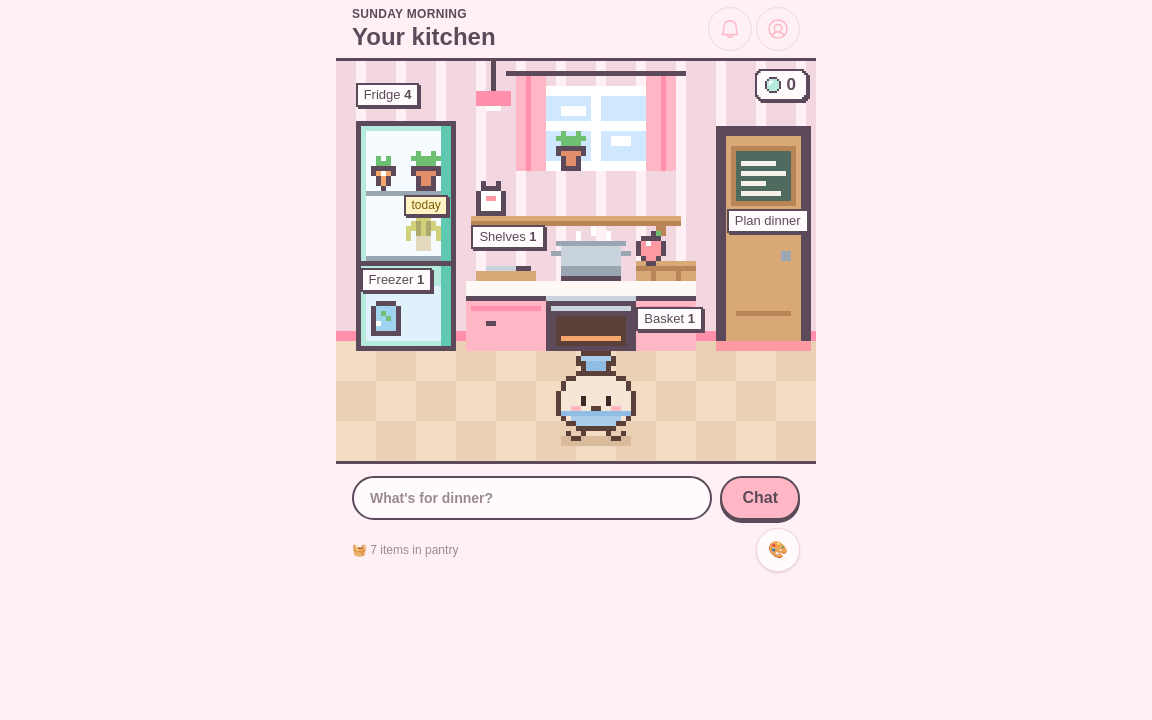
it: bulk resolve › keeps the items that failed selected and says so
The image size is (1152, 720).
What coordinates should you click on to do the following:
click the button with aria-label "Fridge, 4 items"
I would click on:
 (406, 174)
Its box is [356,83,456,266].
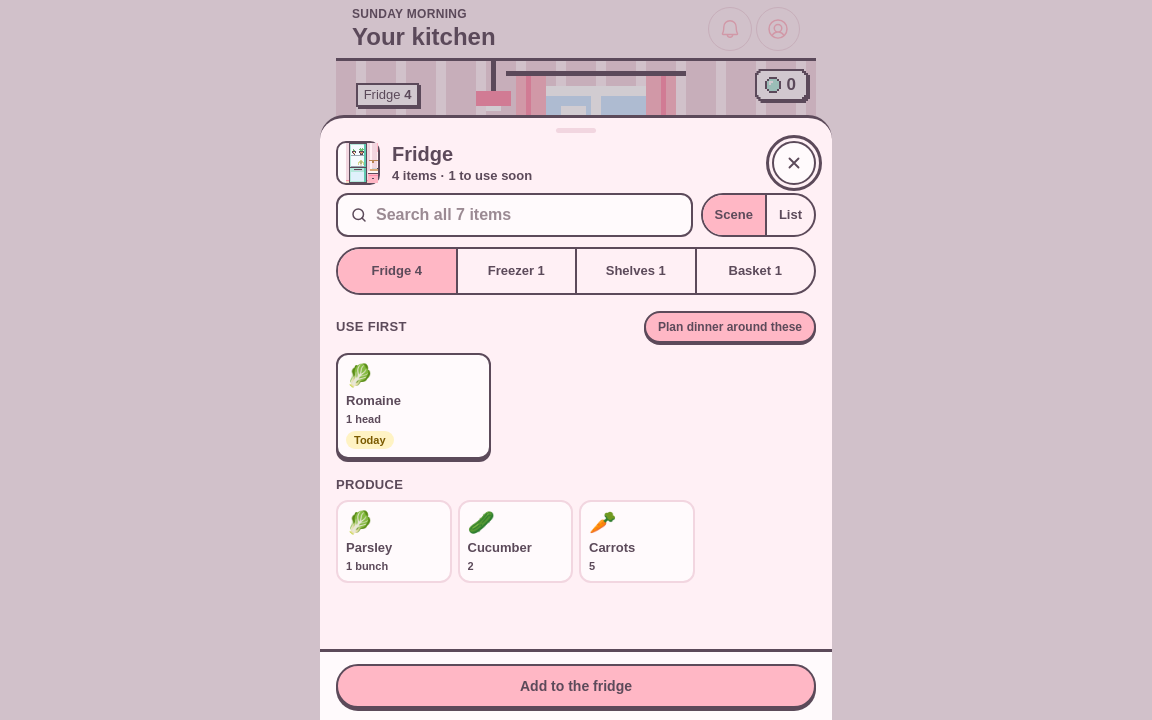
What coordinates should you click on to do the following:
click the button "List"
I would click on:
 (789, 215)
Its box is [765,195,814,235].
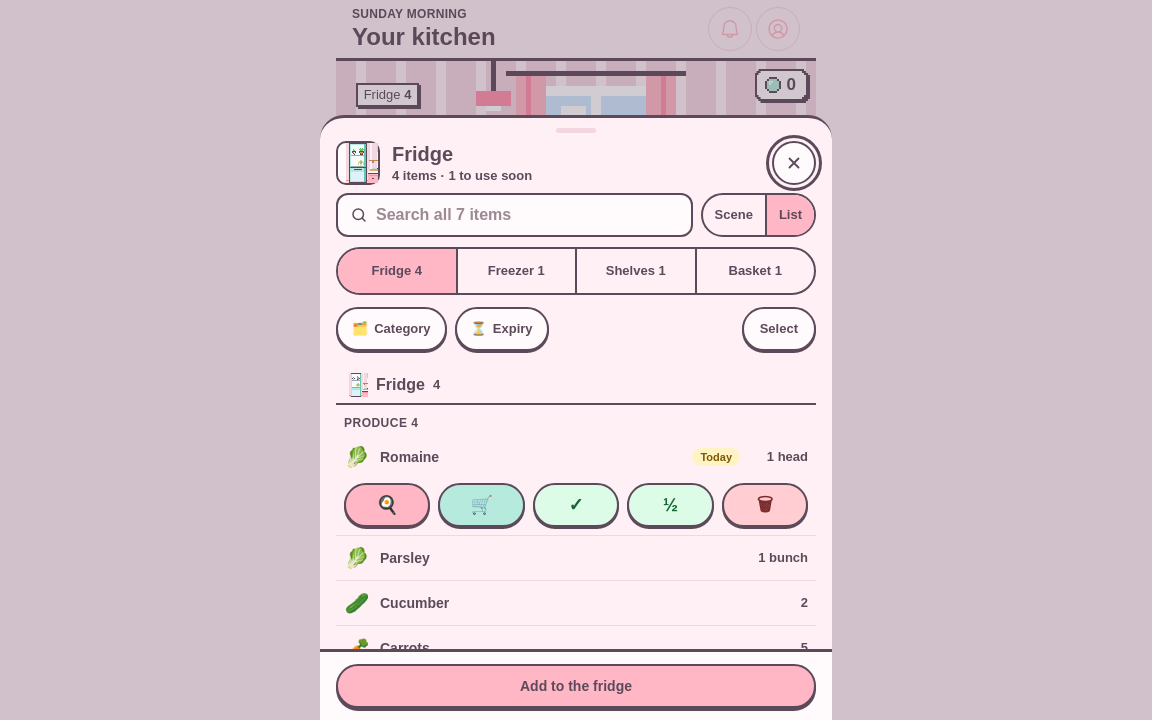
What coordinates should you click on to do the following:
click the button "Select"
I would click on:
 (779, 329)
Its box is [742,307,816,351].
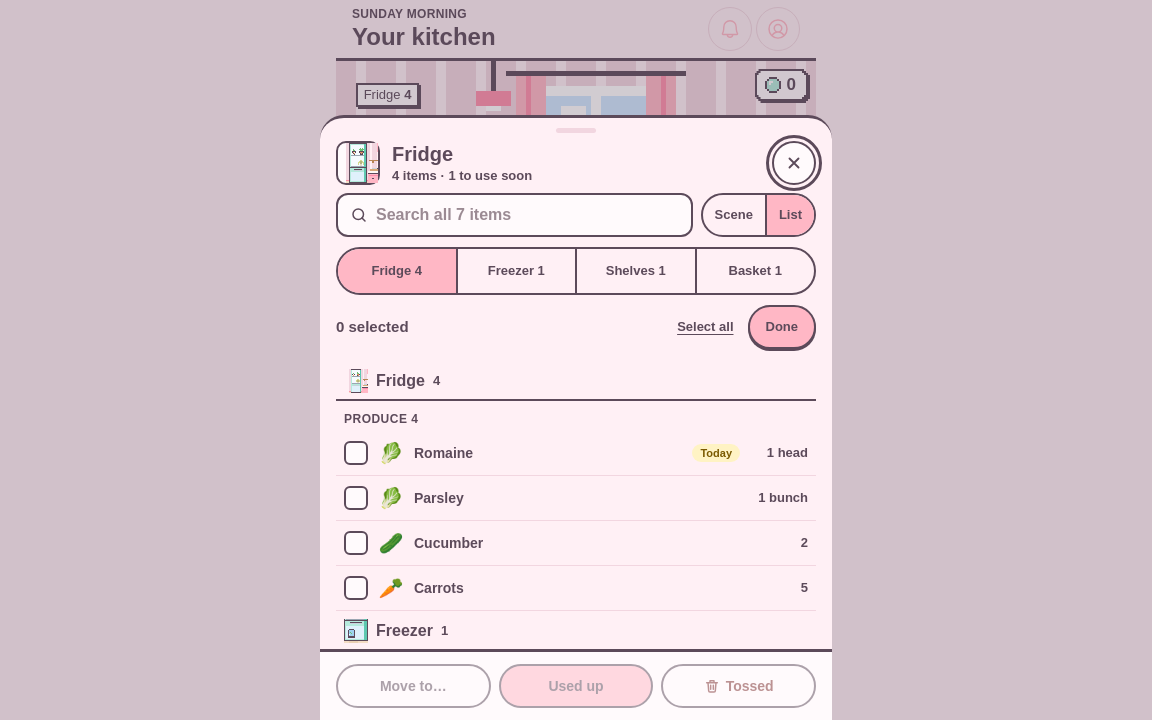
What coordinates should you click on to do the following:
click the checkbox labelled "🥕 Carrots 5"
I would click on:
 (439, 588)
Its box is [344,576,808,600].
(page scrolled)
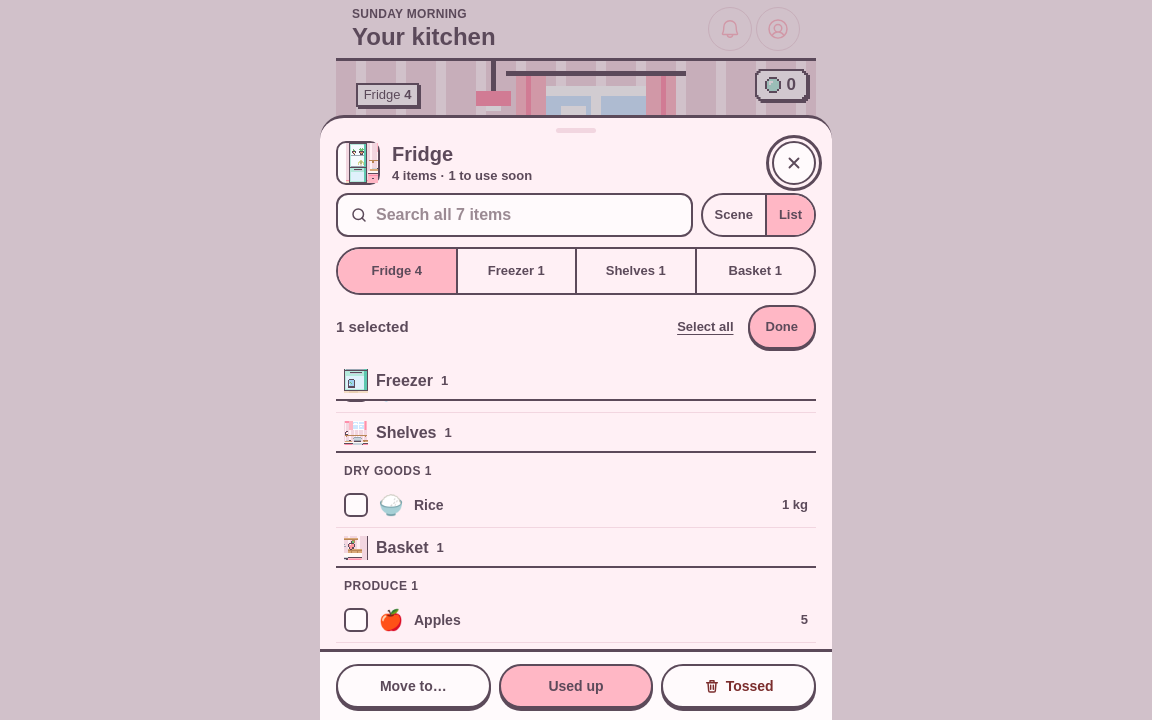
What coordinates should you click on to do the following:
click the checkbox labelled "🍚 Rice 1 kg"
I would click on:
 (356, 505)
Its box is [344,493,808,517].
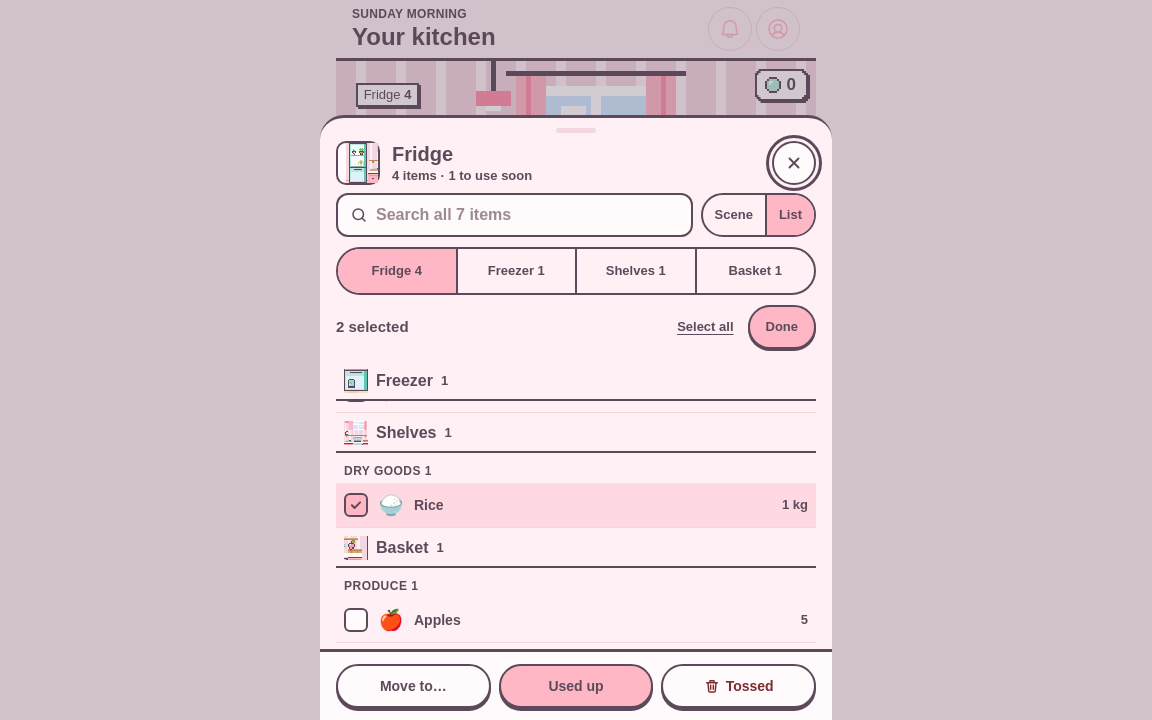
What coordinates should you click on to do the following:
click the button "Used up"
I would click on:
 (576, 686)
Its box is [499,664,653,708].
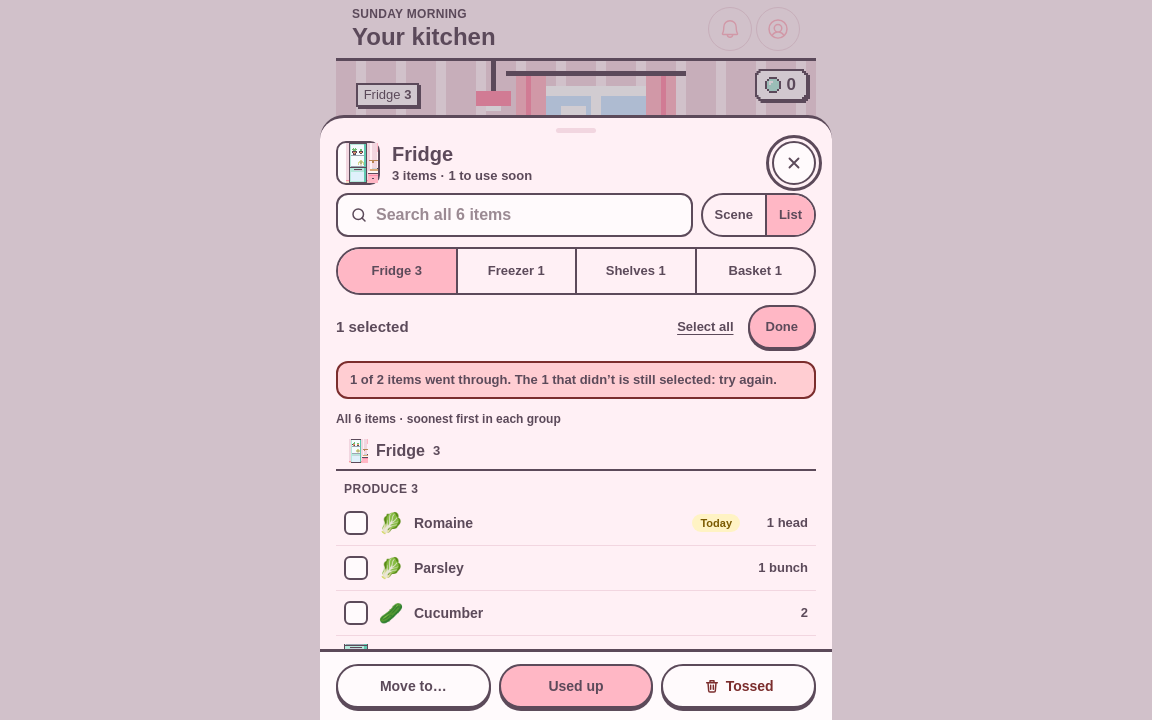
Result: the message "1 of 2 items went through. The 1 that didn’t is still selected: try again." is shown at [336,361,816,399]
